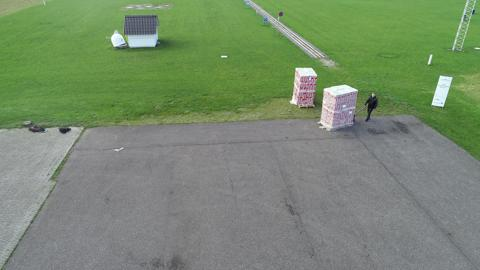RockwoolPallet: (293, 66, 315, 106)
